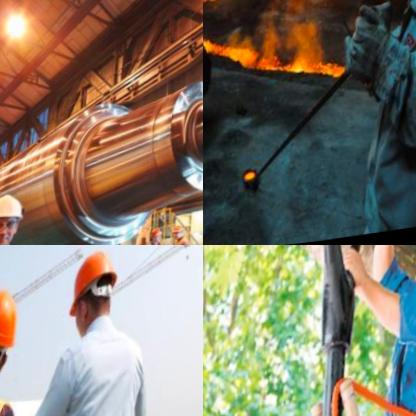helmet: (66, 245, 129, 348), (0, 280, 30, 391), (0, 191, 34, 245), (172, 230, 191, 245), (150, 231, 169, 245)
